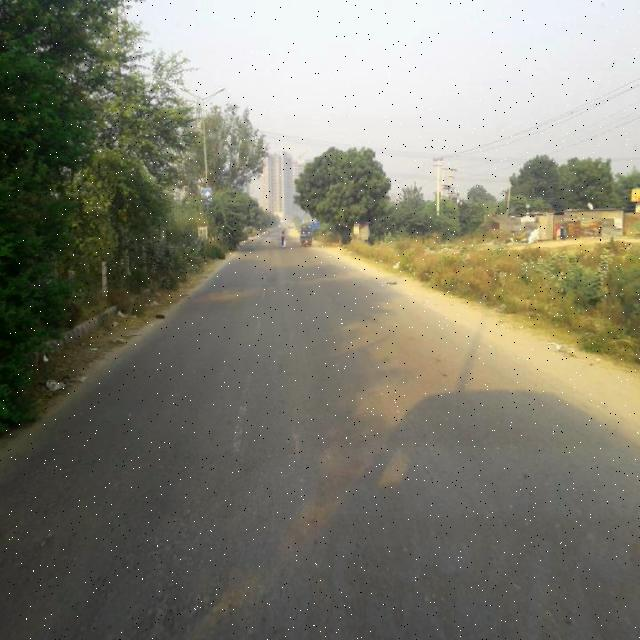D44: (216, 348, 265, 462)
